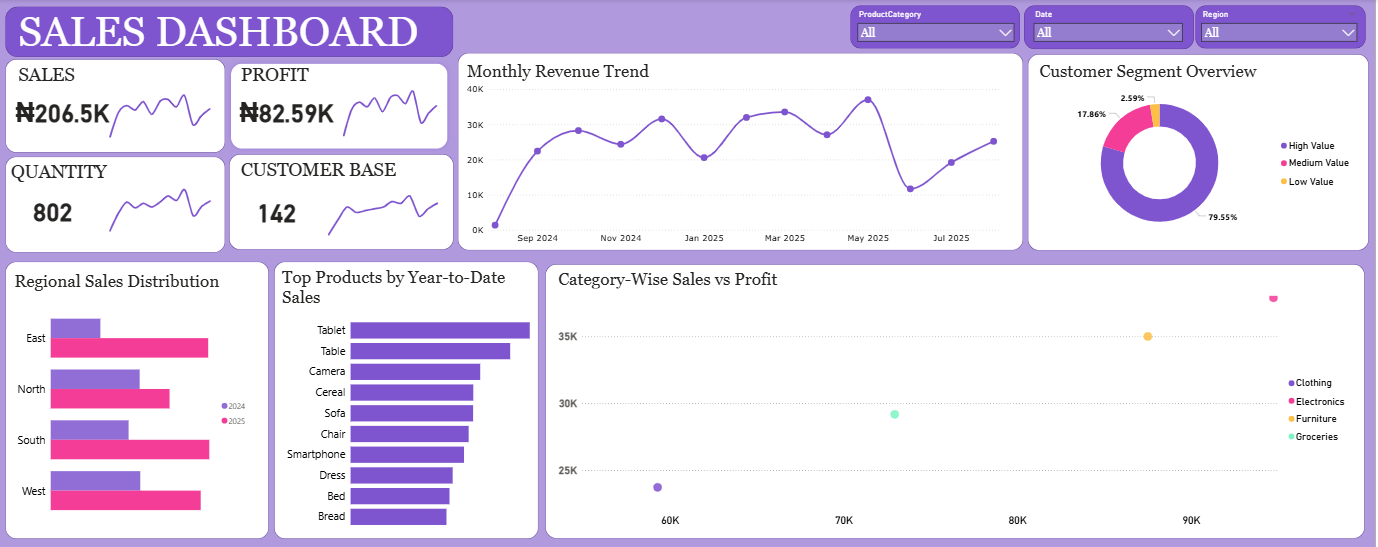

This screenshot's page, from the dashboard's own definition file:
{"tool":"powerbi","page":{"name":"Dashboard","canvas":[2380,950],"ordinal":7},"visuals":[{"type":"shape","box":[10,12.5,775,87.5],"z":0},{"type":"shape","box":[10.8,103.8,380.5,162.2],"z":1000},{"type":"shape","box":[794,94,978,342],"z":2000},{"type":"shape","box":[10,454,456,480],"z":3000},{"type":"shape","box":[475,455,457.5,480],"z":4000},{"type":"shape","box":[1780,95,590,340],"z":5000},{"type":"shape","box":[2070,10,295,75],"z":6000},{"type":"lineChart","title":"Monthly Revenue Trend","fields":{"Y":["SalesData(1).Total Sales"],"Category":["SalesData(1).OrderDate.Variation.Date Hierarchy.Year","SalesData(1).OrderDate.Variation.Date Hierarchy.Month"]},"box":[805,108.3,953.3,323.3],"z":7000},{"type":"card","title":"SALES","fields":{"Values":["SalesData(1).Total Sales YTD"]},"box":[20,135,180,120],"z":8000},{"type":"shape","box":[394.3,102.9,390,162.9],"z":9000},{"type":"shape","box":[10.8,272.4,380.5,166.5],"z":10000},{"type":"shape","box":[397.1,268.6,388.6,165.7],"z":11000},{"type":"shape","box":[945,457.5,1417.5,475],"z":12000},{"type":"clusteredBarChart","title":"Regional Sales Distribution","fields":{"Category":["SalesData(1).Region"],"Y":["SalesData(1).Total Sales YTD"],"Series":["SalesData(1).OrderDate.Variation.Date Hierarchy.Year"]},"box":[22,472,418,456],"z":13000},{"type":"clusteredBarChart","title":"Top Products by Year-to-Date Sales","fields":{"Category":["SalesData(1).ProductName"],"Y":["SalesData(1).Total Sales YTD"]},"box":[485,465,447.5,465],"z":14000},{"type":"donutChart","title":"Customer Segment Overview","fields":{"Category":["Customer Segmentation.Segment"],"Y":["Sum(Customer Segmentation.Total Sales)"]},"box":[1795,107.5,555,317.5],"z":15000},{"type":"scatterChart","title":"Category-Wise Sales vs Profit","fields":{"X":["SalesData(1).Total Sales"],"Y":["SalesData(1).Total Profit"],"Category":["SalesData(1).ProductCategory"],"Series":["SalesData(1).ProductCategory"]},"box":[962.5,467.5,1380,452.5],"z":16000},{"type":"shape","box":[1772,10,294,76],"z":17000},{"type":"shape","box":[1472.5,10,293.8,75],"z":18000},{"type":"lineChart","fields":{"Category":["SalesData(1).OrderDate.Variation.Date Hierarchy.Year","SalesData(1).OrderDate.Variation.Date Hierarchy.Month"],"Y":["SalesData(1).Total Profit YTD"]},"box":[582.5,145,190,100],"z":19000},{"type":"lineChart","fields":{"Category":["SalesData(1).OrderDate.Variation.Date Hierarchy.Year","SalesData(1).OrderDate.Variation.Date Hierarchy.Month"],"Y":["SalesData(1).Total Quantity"]},"box":[177.3,310.9,202.7,100],"z":20000},{"type":"lineChart","fields":{"Category":["SalesData(1).OrderDate.Variation.Date Hierarchy.Year","SalesData(1).OrderDate.Variation.Date Hierarchy.Month"],"Y":["SalesData(1).Customer Count YTD"]},"box":[555,305,217.5,115],"z":21000},{"type":"card","title":"PROFIT","fields":{"Values":["SalesData(1).Total Profit YTD"]},"box":[402.5,132.5,190,122.5],"z":22000},{"type":"card","title":"QUANTITY","fields":{"Values":["SalesData(1).Total Quantity YTD"]},"box":[16,306,156,114],"z":23000},{"type":"card","title":"CUSTOMER","fields":{"Values":["SalesData(1).Customer Count YTD"]},"box":[407.5,310,147.5,115],"z":24000},{"type":"lineChart","fields":{"Y":["SalesData(1).Total Sales YTD"],"Category":["SalesData(1).OrderDate.Variation.Date Hierarchy.Year","SalesData(1).OrderDate.Variation.Date Hierarchy.Month"]},"box":[178,146,202,100],"z":25000},{"type":"slicer","fields":{"Values":["SalesData(1).ProductCategory"]},"box":[1474.5,13,291.9,73.5],"z":26000},{"type":"slicer","fields":{"Values":["SalesData(1).OrderDate.Variation.Date Hierarchy.Year","SalesData(1).OrderDate.Variation.Date Hierarchy.Month"]},"box":[1780,12,278,72],"z":27000},{"type":"slicer","fields":{"Values":["SalesData(1).Region"]},"box":[2070,12.5,290,67.5],"z":28000},{"type":"textbox","box":[28,10,744,92],"z":29000},{"type":"textbox","box":[28,108,114,56],"z":30000},{"type":"textbox","box":[412.5,107.5,147.5,77.5],"z":31000},{"type":"textbox","box":[412.5,272.5,292.5,77.5],"z":32000},{"type":"textbox","box":[15,275,185,77.5],"z":33000}]}

Visuals, with their boxes in screenshot pixels (x1, y1, x2, y2), scaled from the page's 2380x950 canvas onto the 1378x547 screenshot:
shape: {"left": 6, "top": 7, "right": 455, "bottom": 58}
shape: {"left": 6, "top": 60, "right": 227, "bottom": 153}
shape: {"left": 460, "top": 54, "right": 1026, "bottom": 251}
shape: {"left": 6, "top": 261, "right": 270, "bottom": 538}
shape: {"left": 275, "top": 262, "right": 540, "bottom": 538}
shape: {"left": 1031, "top": 55, "right": 1372, "bottom": 250}
shape: {"left": 1199, "top": 6, "right": 1369, "bottom": 49}
"Monthly Revenue Trend" lineChart: {"left": 466, "top": 62, "right": 1018, "bottom": 249}
"SALES" card: {"left": 12, "top": 78, "right": 116, "bottom": 147}
shape: {"left": 228, "top": 59, "right": 454, "bottom": 153}
shape: {"left": 6, "top": 157, "right": 227, "bottom": 253}
shape: {"left": 230, "top": 155, "right": 455, "bottom": 250}
shape: {"left": 547, "top": 263, "right": 1368, "bottom": 537}
"Regional Sales Distribution" clusteredBarChart: {"left": 13, "top": 272, "right": 255, "bottom": 534}
"Top Products by Year-to-Date Sales" clusteredBarChart: {"left": 281, "top": 268, "right": 540, "bottom": 535}
"Customer Segment Overview" donutChart: {"left": 1039, "top": 62, "right": 1361, "bottom": 245}
"Category-Wise Sales vs Profit" scatterChart: {"left": 557, "top": 269, "right": 1356, "bottom": 530}
shape: {"left": 1026, "top": 6, "right": 1196, "bottom": 50}
shape: {"left": 853, "top": 6, "right": 1023, "bottom": 49}
lineChart - SalesData(1).OrderDate.Variation.Date Hierarchy.Year x SalesData(1).OrderDate.Variation.Date Hierarchy.Month: {"left": 337, "top": 83, "right": 447, "bottom": 141}
lineChart - SalesData(1).OrderDate.Variation.Date Hierarchy.Year x SalesData(1).OrderDate.Variation.Date Hierarchy.Month: {"left": 103, "top": 179, "right": 220, "bottom": 237}
lineChart - SalesData(1).OrderDate.Variation.Date Hierarchy.Year x SalesData(1).OrderDate.Variation.Date Hierarchy.Month: {"left": 321, "top": 176, "right": 447, "bottom": 242}
"PROFIT" card: {"left": 233, "top": 76, "right": 343, "bottom": 147}
"QUANTITY" card: {"left": 9, "top": 176, "right": 100, "bottom": 242}
"CUSTOMER" card: {"left": 236, "top": 178, "right": 321, "bottom": 245}
lineChart - SalesData(1).Total Sales YTD x SalesData(1).OrderDate.Variation.Date Hierarchy.Year: {"left": 103, "top": 84, "right": 220, "bottom": 142}
slicer - SalesData(1).ProductCategory: {"left": 854, "top": 7, "right": 1023, "bottom": 50}
slicer - SalesData(1).OrderDate.Variation.Date Hierarchy.Year x SalesData(1).OrderDate.Variation.Date Hierarchy.Month: {"left": 1031, "top": 7, "right": 1192, "bottom": 48}
slicer - SalesData(1).Region: {"left": 1199, "top": 7, "right": 1366, "bottom": 46}
textbox: {"left": 16, "top": 6, "right": 447, "bottom": 59}
textbox: {"left": 16, "top": 62, "right": 82, "bottom": 94}
textbox: {"left": 239, "top": 62, "right": 324, "bottom": 107}
textbox: {"left": 239, "top": 157, "right": 408, "bottom": 202}
textbox: {"left": 9, "top": 158, "right": 116, "bottom": 203}
